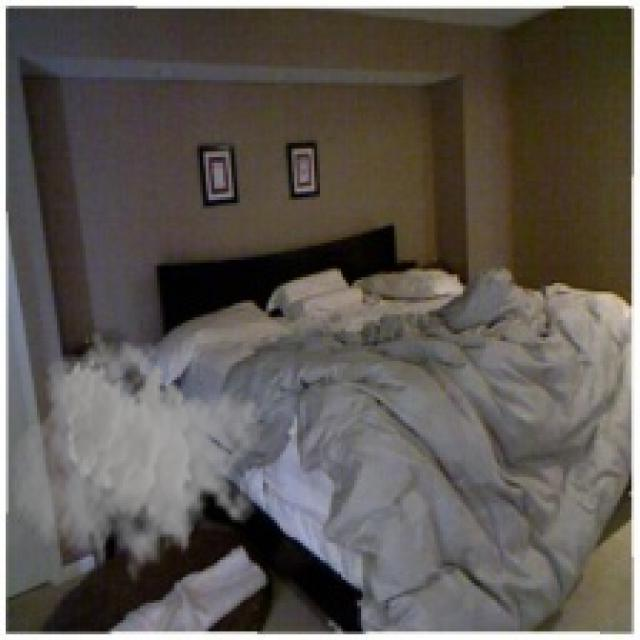Smoke: (8, 328, 266, 592)
